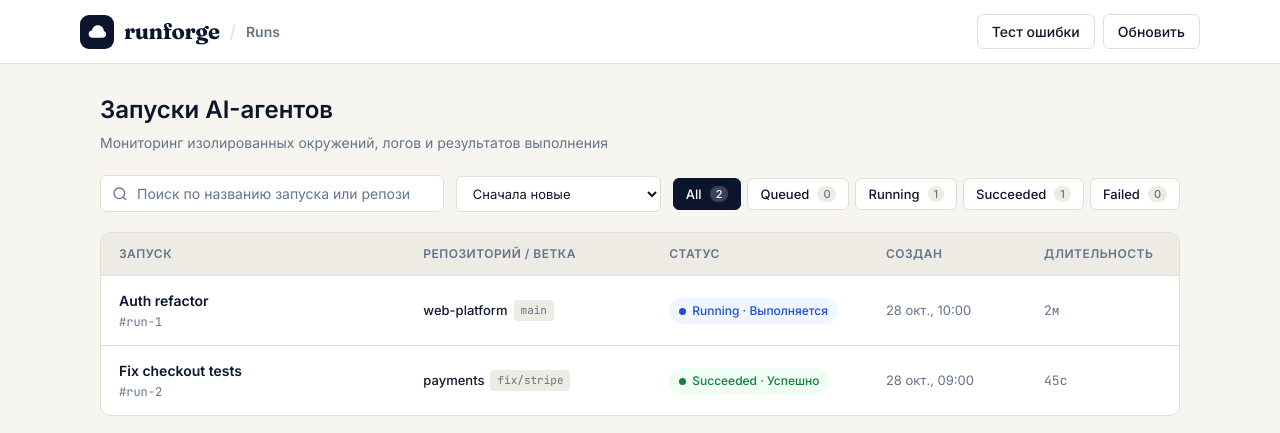
Scenario: Runforge Runs Dashboard › 1. Фильтрация по статусу оставляет только подходящие запуски
Expected: the text "Auth refactor" is shown, [119,292,209,309]
Click the button "Succeeded 1".
click(1024, 194)  # box [963,178,1084,210]
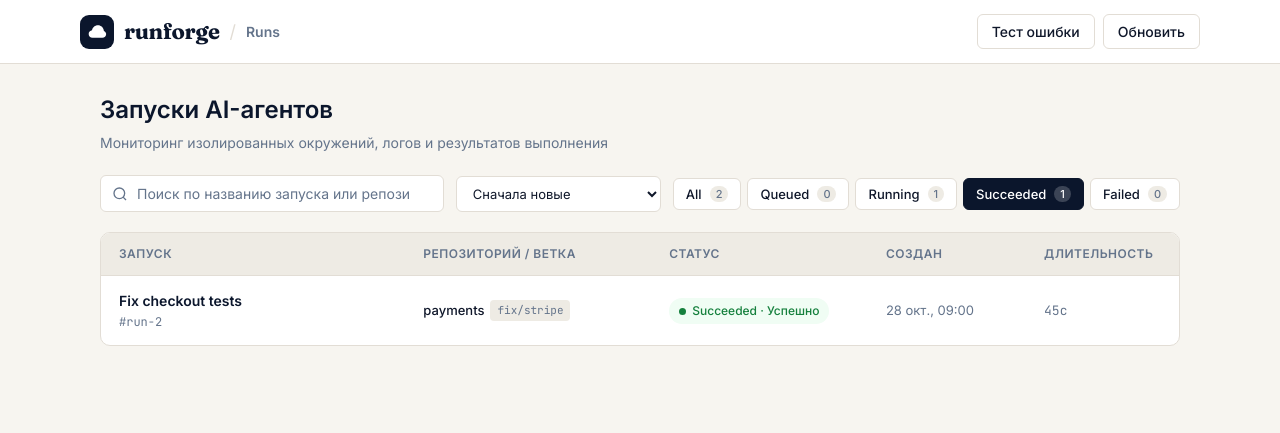
Expected: the text "Fix checkout tests" is shown, [119,292,242,309]
Result: the button "Auth refactor" is gone
